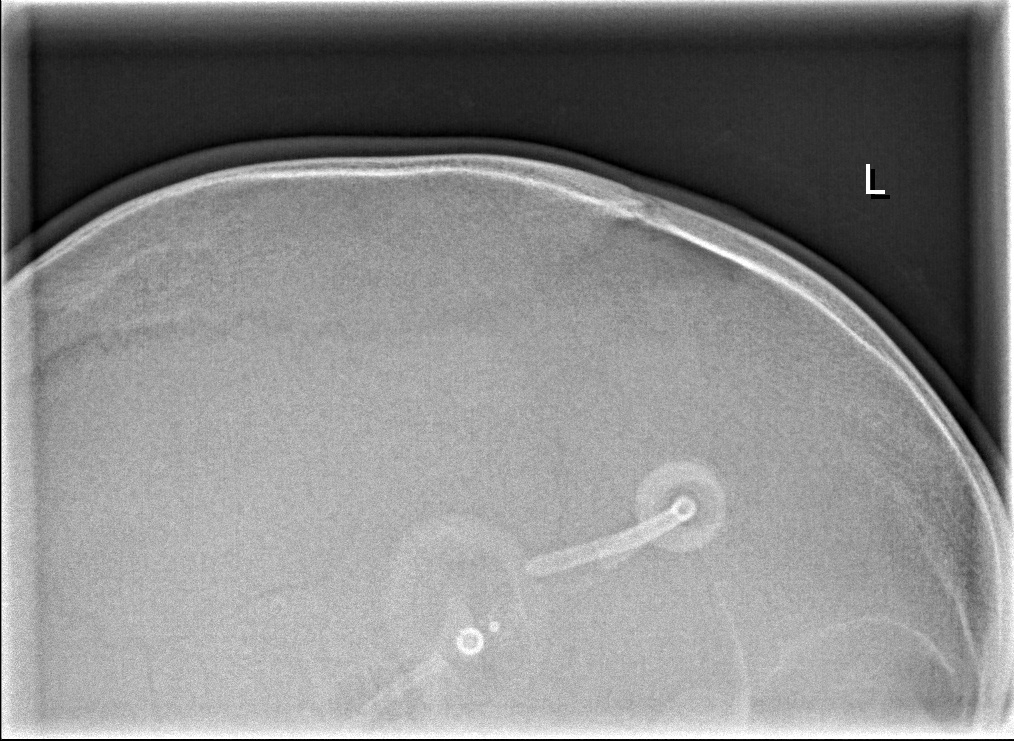Codman Hakim: (444, 607, 508, 667)
